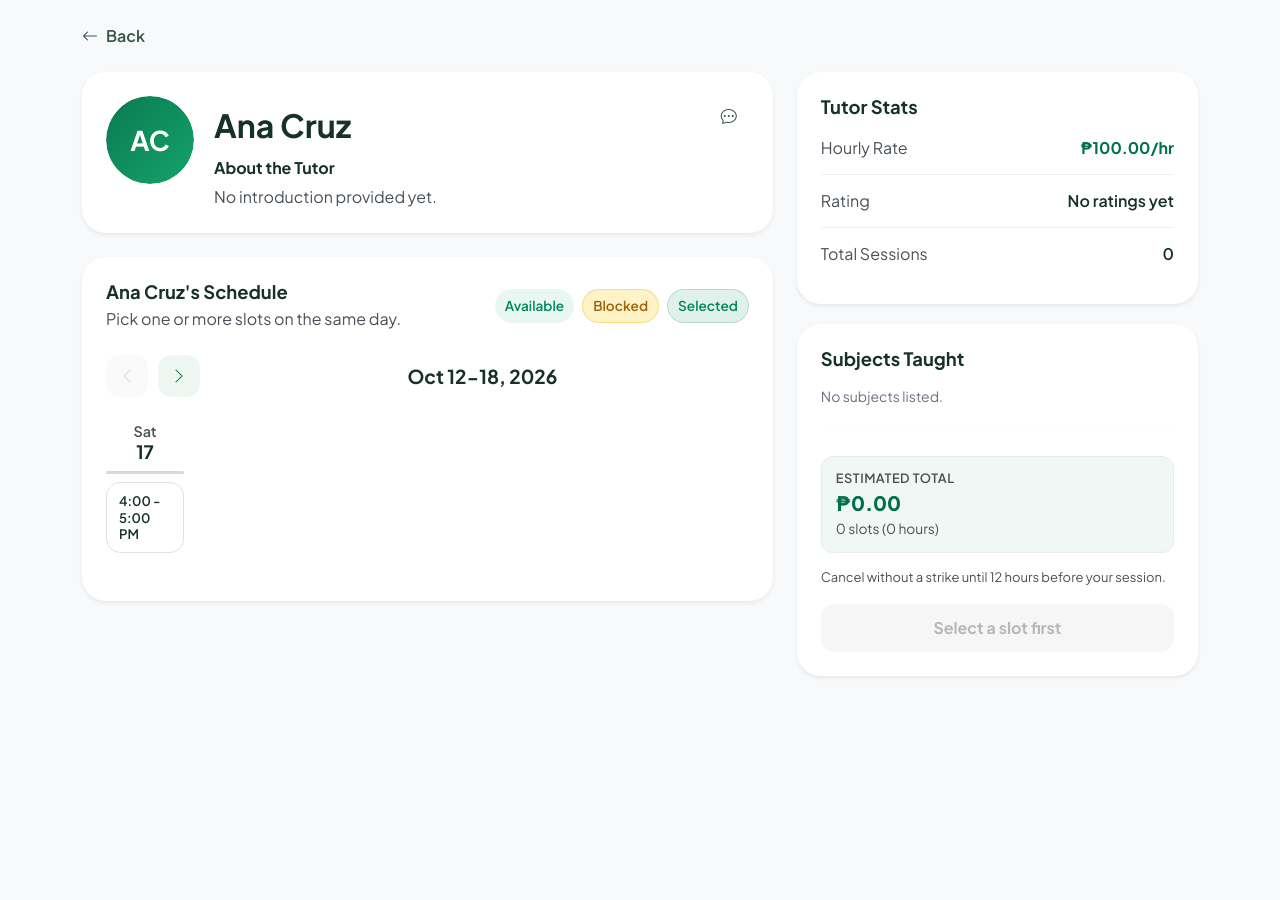
Test case: TutorDetails truth and booking consequences › shows the 12-hour rule and selected cancellation deadline in Manila time
Expected: the message "Cancel without a strike until 12 hours before your session." is shown, 821,567 -> 1174,588
Click the button with class "slot-link".
click(145, 518)  # box 106,482 -> 184,554
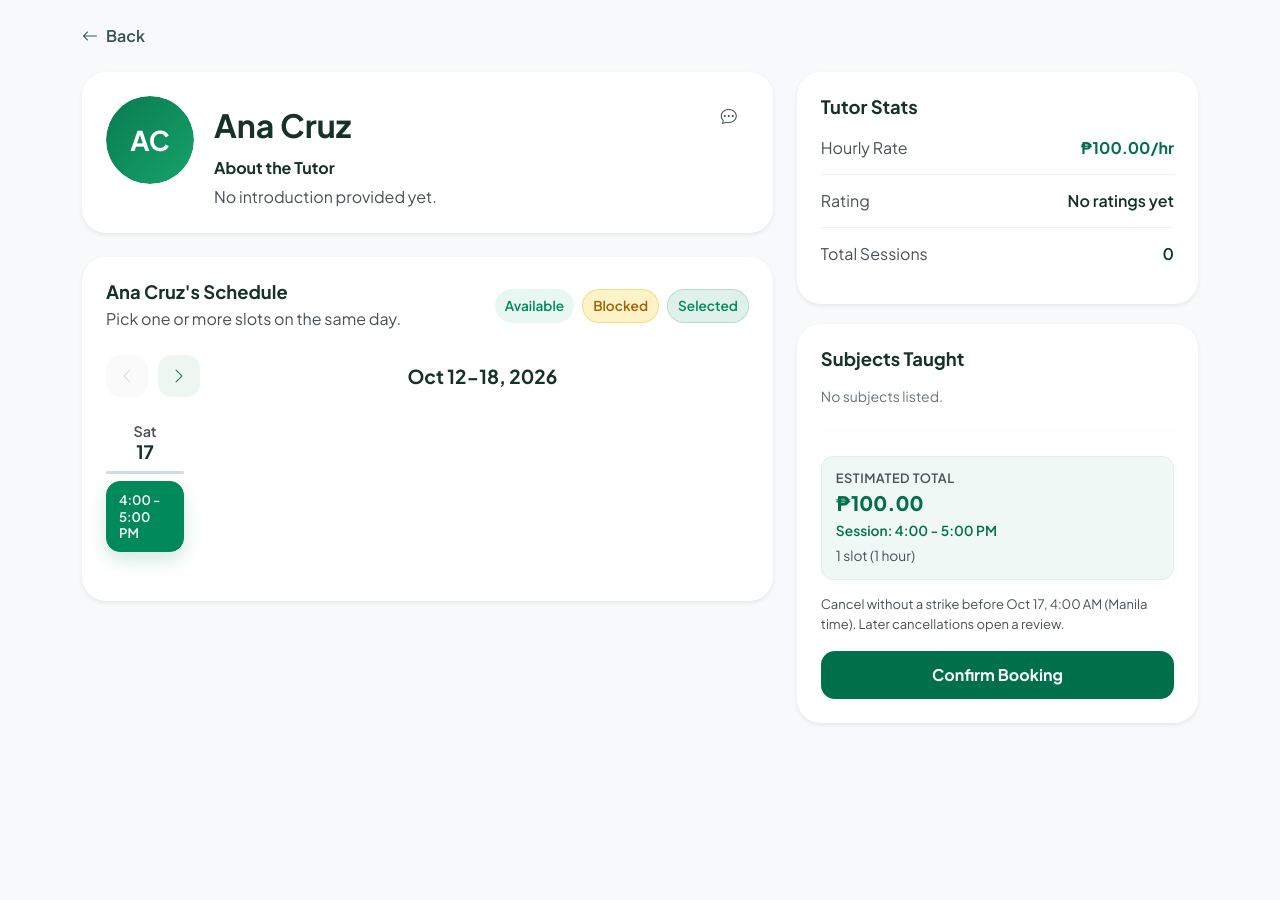
Expected: the message shows "Oct 17", 821,596 -> 1147,632
Expected: the message shows "Manila time", 821,596 -> 1147,632
